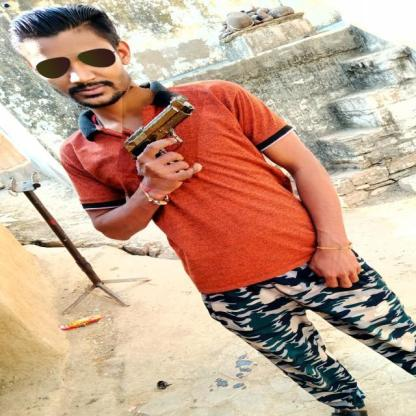handgun: (119, 89, 201, 181)
